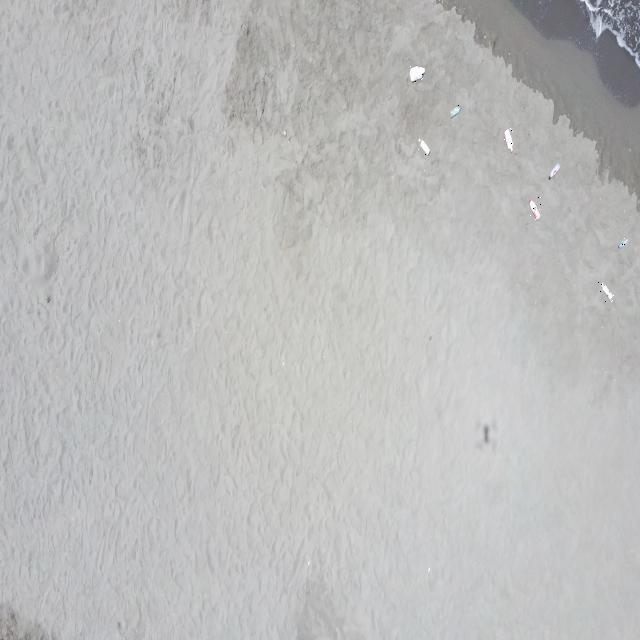Garbage: (597, 281, 612, 300), (528, 200, 540, 219), (409, 65, 424, 80), (417, 138, 428, 155), (504, 128, 512, 151), (548, 163, 559, 179), (449, 104, 460, 116), (617, 236, 627, 247), (281, 129, 286, 136)
